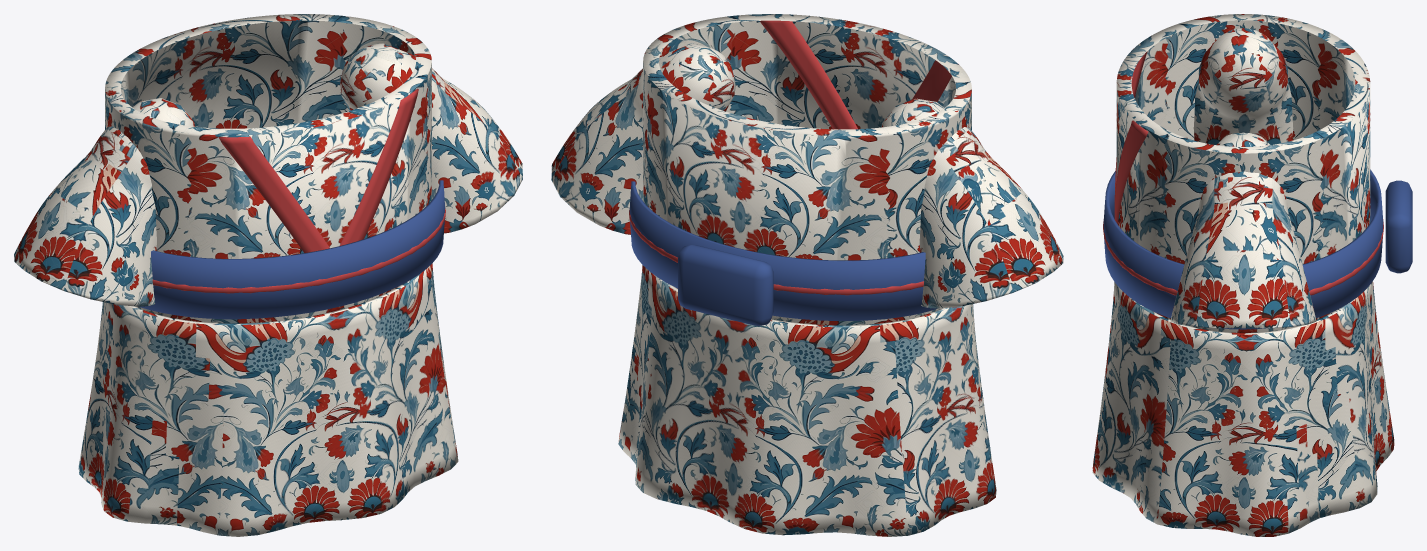
The model's file is kimono4.fbx.
3 renders of one model, left to right at view 1: azimuth 30°, elevation 25°; view 2: azimuth 150°, elevation 25°; view 3: azimuth 270°, elevation 25°, orthographic. The views are drawn at different scales.
Visible parts, largest first — view 1: kimono4; view 2: kimono4; view 3: kimono4.
Boxes of the visible parts, x1,y1,x2,y2 form: kimono4: [14, 14, 522, 536]; kimono4: [551, 14, 1063, 536]; kimono4: [1092, 14, 1412, 536].
Bounding box in the file's own units: 1.4 × 1.07 × 0.8305.
Materials: 3 (1 with a texture image).
